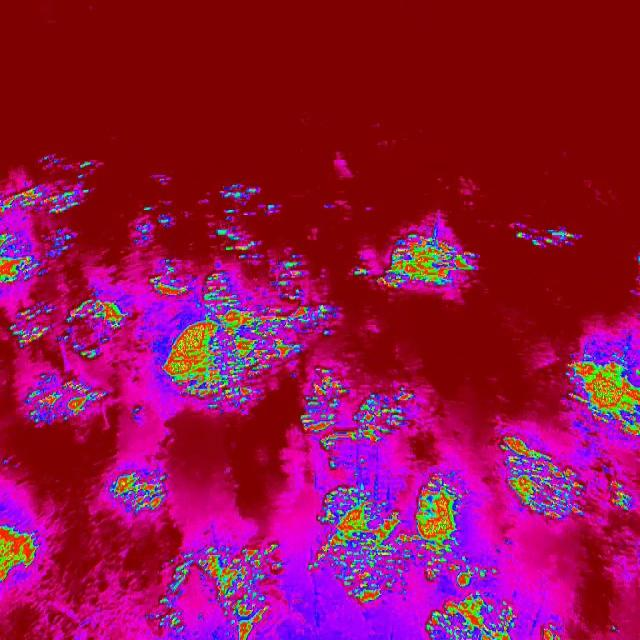fire: (297, 368, 458, 610), (148, 276, 338, 415), (7, 297, 124, 433), (154, 539, 284, 640), (0, 163, 97, 289), (503, 432, 592, 532), (566, 326, 640, 440), (374, 226, 482, 300), (424, 572, 512, 640), (211, 178, 279, 262), (96, 468, 180, 522), (0, 516, 46, 580), (540, 615, 578, 640)
